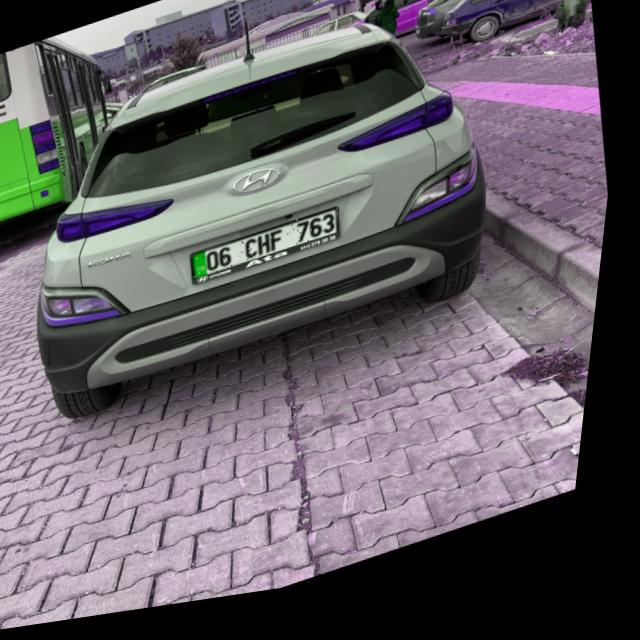license_plate: (196, 217, 347, 287)
